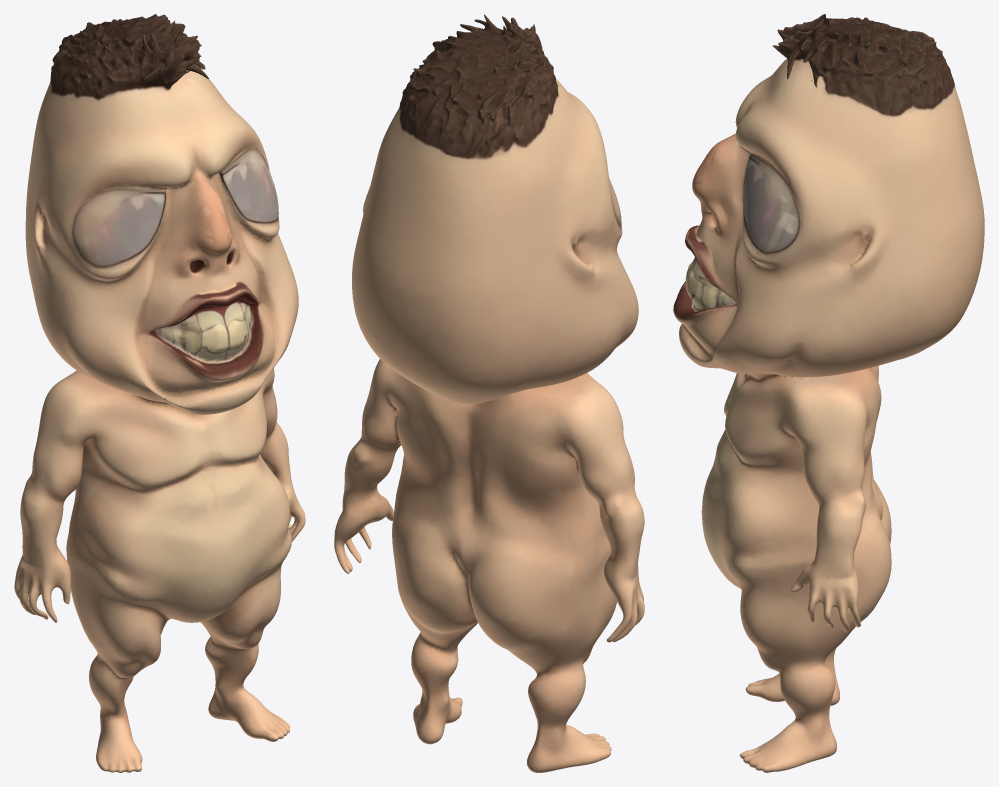
The model's file is Meshy_AI_Bulging_Eyed_Goblin_1021155027_texture.fbx.
3 views of the same model, side by side, from view 1: azimuth 30°, elevation 25°; view 2: azimuth 150°, elevation 25°; view 3: azimuth 270°, elevation 25° (orthographic). The views are drawn at different scales.
Visible parts, largest first — view 1: Mesh_0; view 2: Mesh_0; view 3: Mesh_0.
Part boxes in pixels (left/top/right/bottom): Mesh_0: left=14, top=14, right=305, bottom=772; Mesh_0: left=334, top=14, right=644, bottom=772; Mesh_0: left=673, top=14, right=984, bottom=772.
Bounding box in the file's own units: 79.23 × 190 × 75.79.
1 material, 1 textured.
